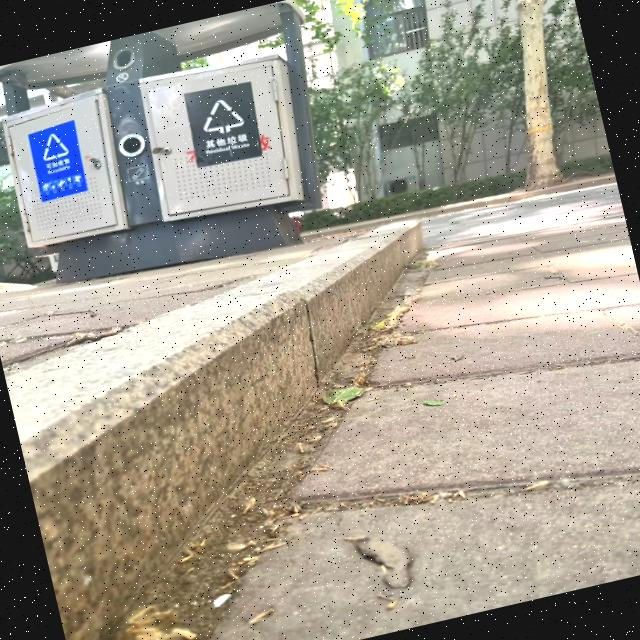curb: (1, 213, 494, 640)
